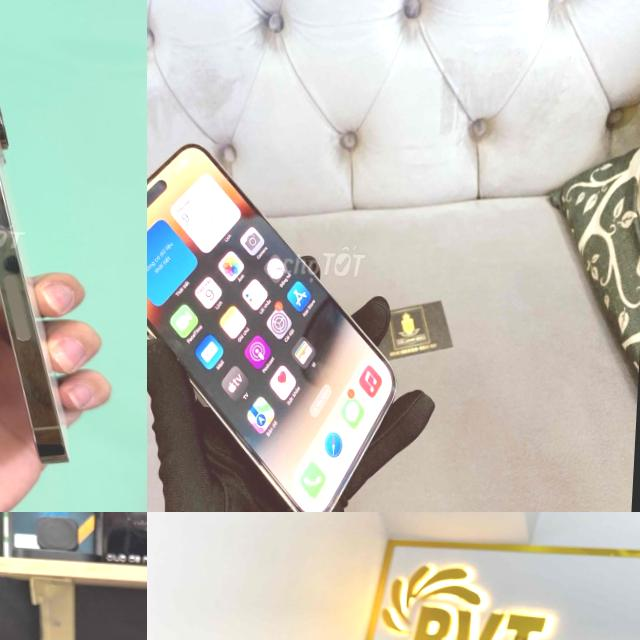gen_14: (147, 145, 394, 512), (0, 39, 103, 476)
